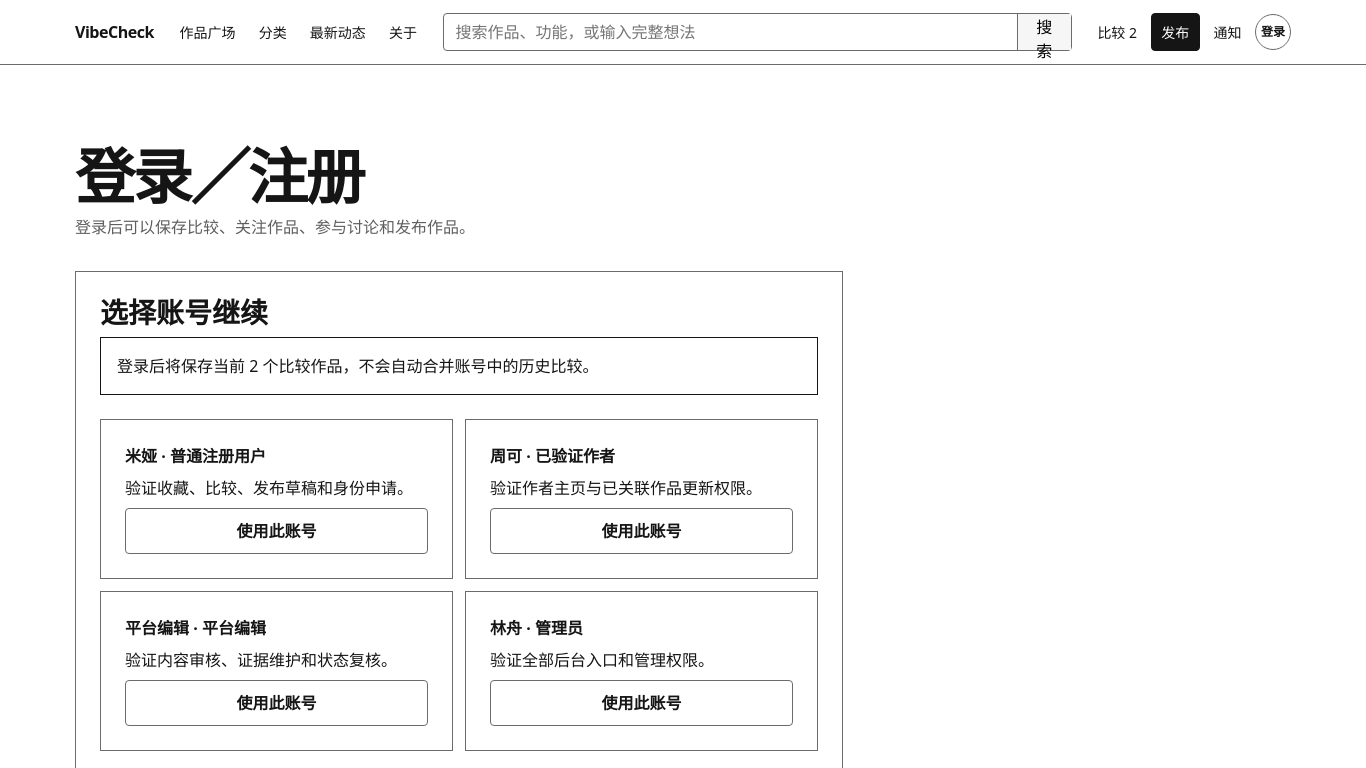
Test case: submission entry and URL checks › logs in with a fixed identity and returns to the protected publish entry
The width and height of the screenshot is (1366, 768).
Expected: the text "登录后可以保存比较、关注作品、参与讨论和发布作品。" is shown, [75, 216, 475, 238]
Step 1. Click the button with aria-label "使用米娅账号" → (276, 531), box [125, 508, 428, 554]
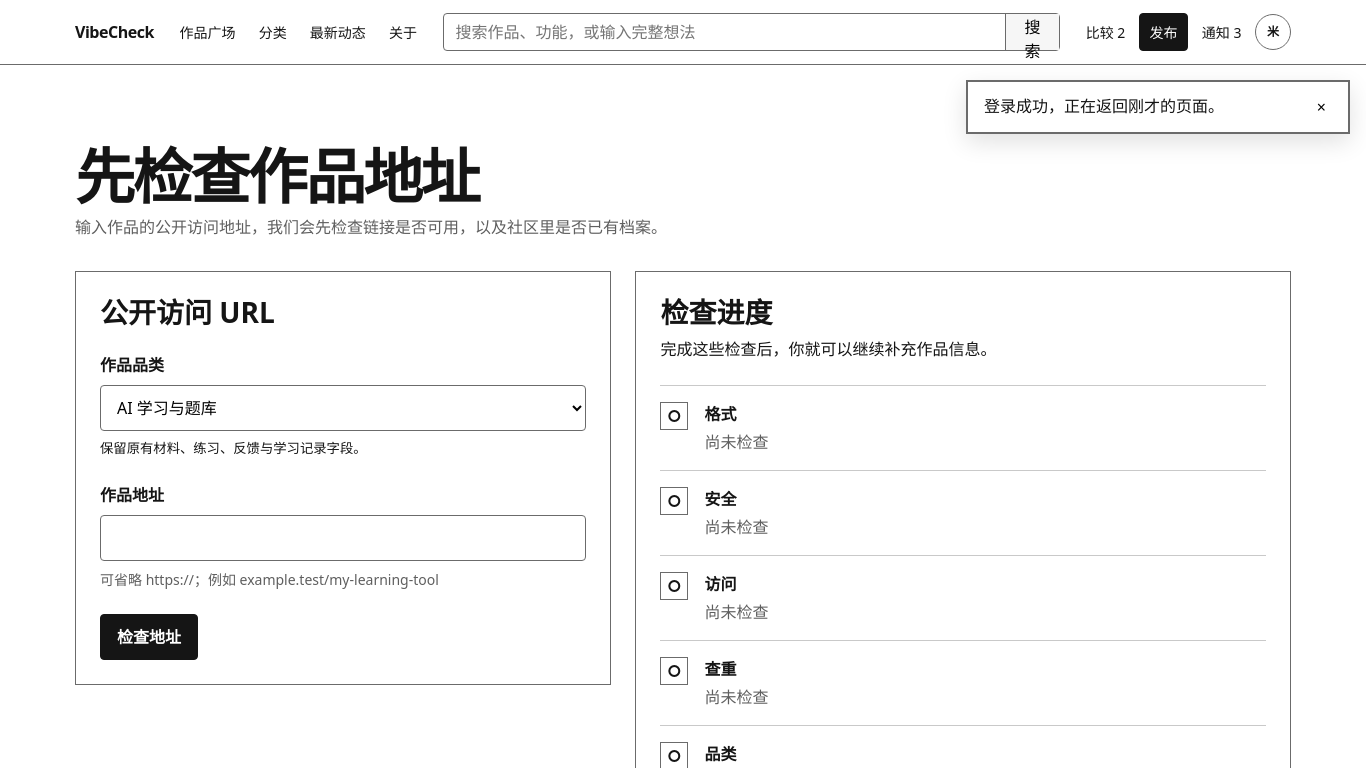
Expected: the heading "先检查作品地址" is shown, [75, 135, 478, 217]
